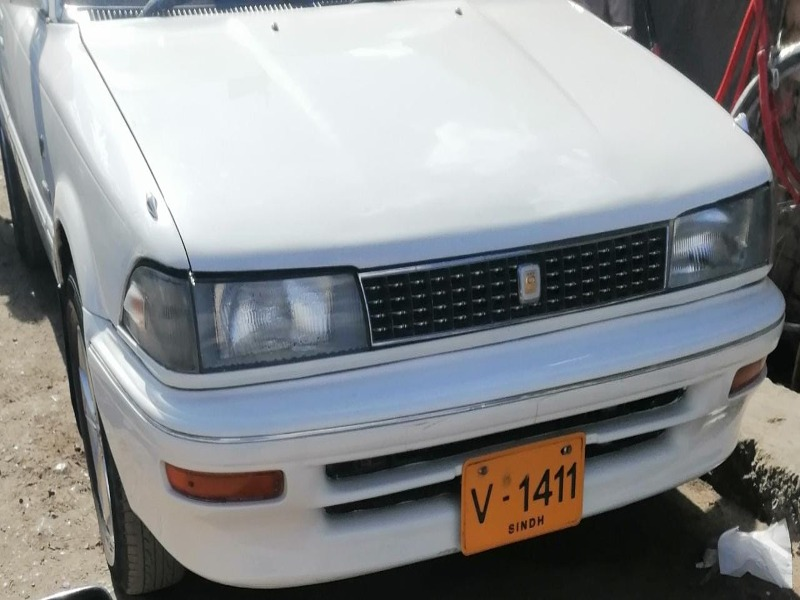License Plate: (455, 429, 589, 560)
